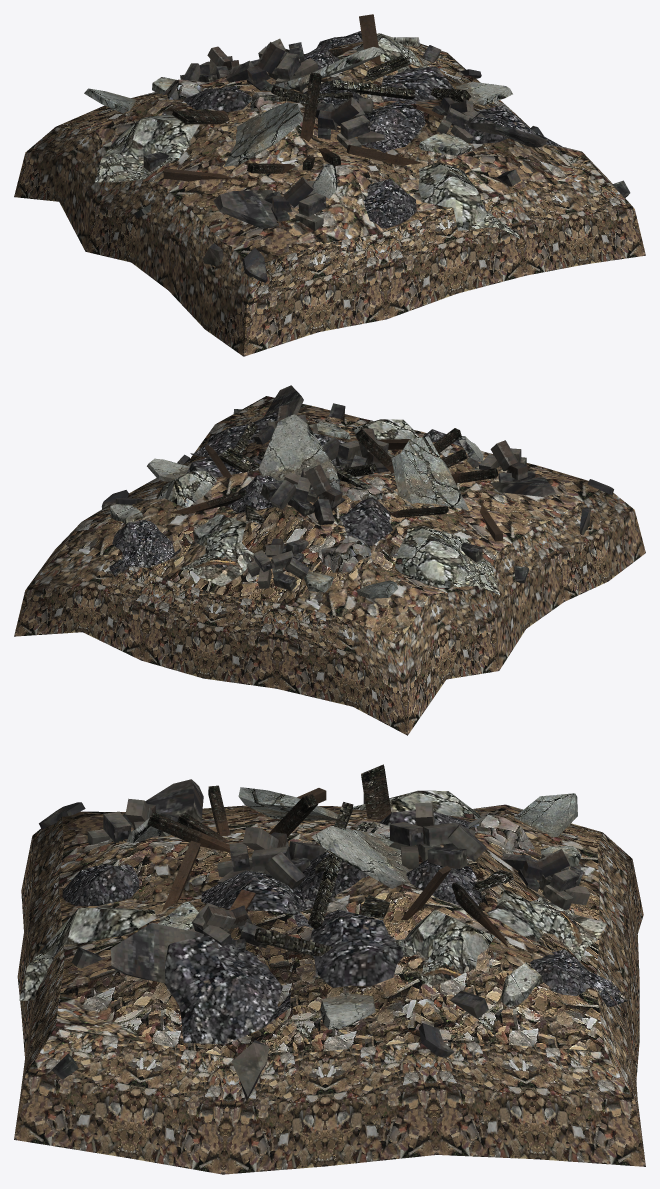
The model's file is kush_town_center_rubble.glb.
3 renders of one model, top to bottom at view 1: azimuth 30°, elevation 25°; view 2: azimuth 150°, elevation 25°; view 3: azimuth 270°, elevation 25°, orthographic. The views are drawn at different scales.
Parts seen in each view (by area): view 1: kush_town_center_rubble_part0; view 2: kush_town_center_rubble_part0; view 3: kush_town_center_rubble_part0.
Part boxes in pixels (x1,y1,x2,y2): kush_town_center_rubble_part0: (14, 14, 645, 356); kush_town_center_rubble_part0: (14, 385, 645, 735); kush_town_center_rubble_part0: (14, 764, 645, 1174).
Bounding box in the file's own units: 6.2 × 2.55 × 6.12.
1 material, 1 textured.
